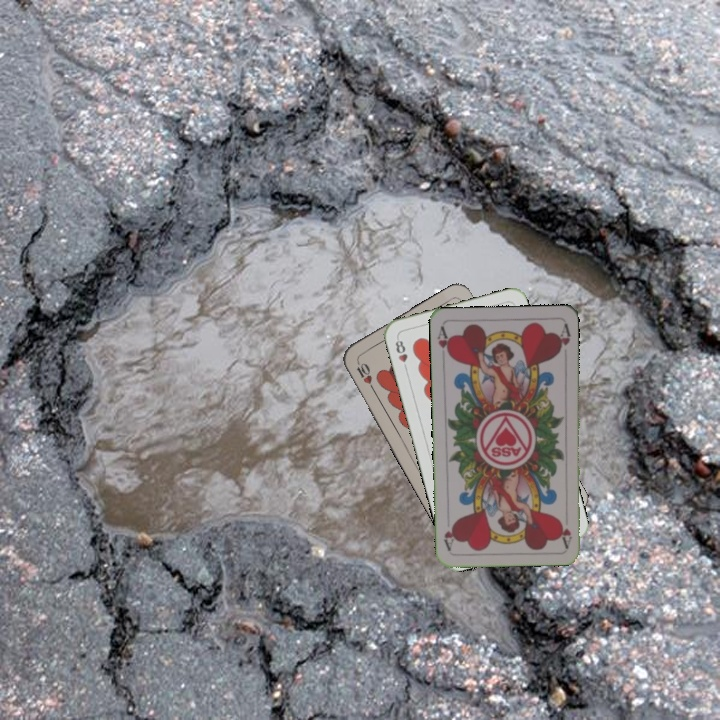H10: (352, 356, 377, 393)
H8: (391, 334, 410, 374)
HA: (433, 323, 453, 360), (559, 520, 575, 549)
